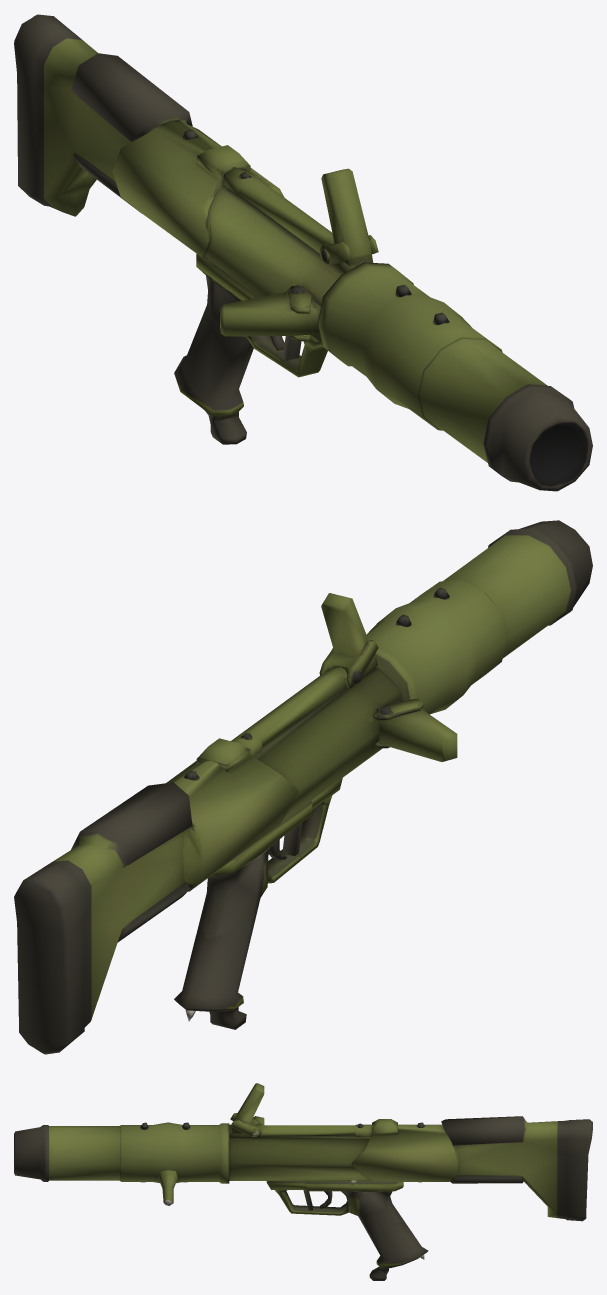
Rendered from launcher.glb.
3 views of the same model, one above another, from view 1: azimuth 30°, elevation 25°; view 2: azimuth 150°, elevation 25°; view 3: azimuth 270°, elevation 25° (orthographic). The views are drawn at different scales.
Parts seen in each view (by area): view 1: tripo_node_9e594bb0-01d8-4f9c-9e9f-6c4677fa8e96; view 2: tripo_node_9e594bb0-01d8-4f9c-9e9f-6c4677fa8e96; view 3: tripo_node_9e594bb0-01d8-4f9c-9e9f-6c4677fa8e96.
Boxes of the visible parts, x1,y1,x2,y2 form: tripo_node_9e594bb0-01d8-4f9c-9e9f-6c4677fa8e96: [14, 14, 592, 491]; tripo_node_9e594bb0-01d8-4f9c-9e9f-6c4677fa8e96: [14, 520, 592, 1054]; tripo_node_9e594bb0-01d8-4f9c-9e9f-6c4677fa8e96: [14, 1083, 592, 1280].
Size of the model in its own units: 0.2168 by 0.3652 by 0.998.
Materials: 1 (1 with a texture image).
